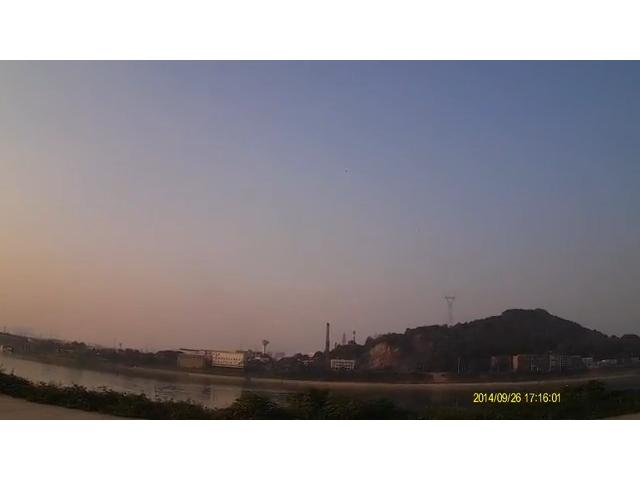Anti-Drone: (334, 161, 356, 178)
